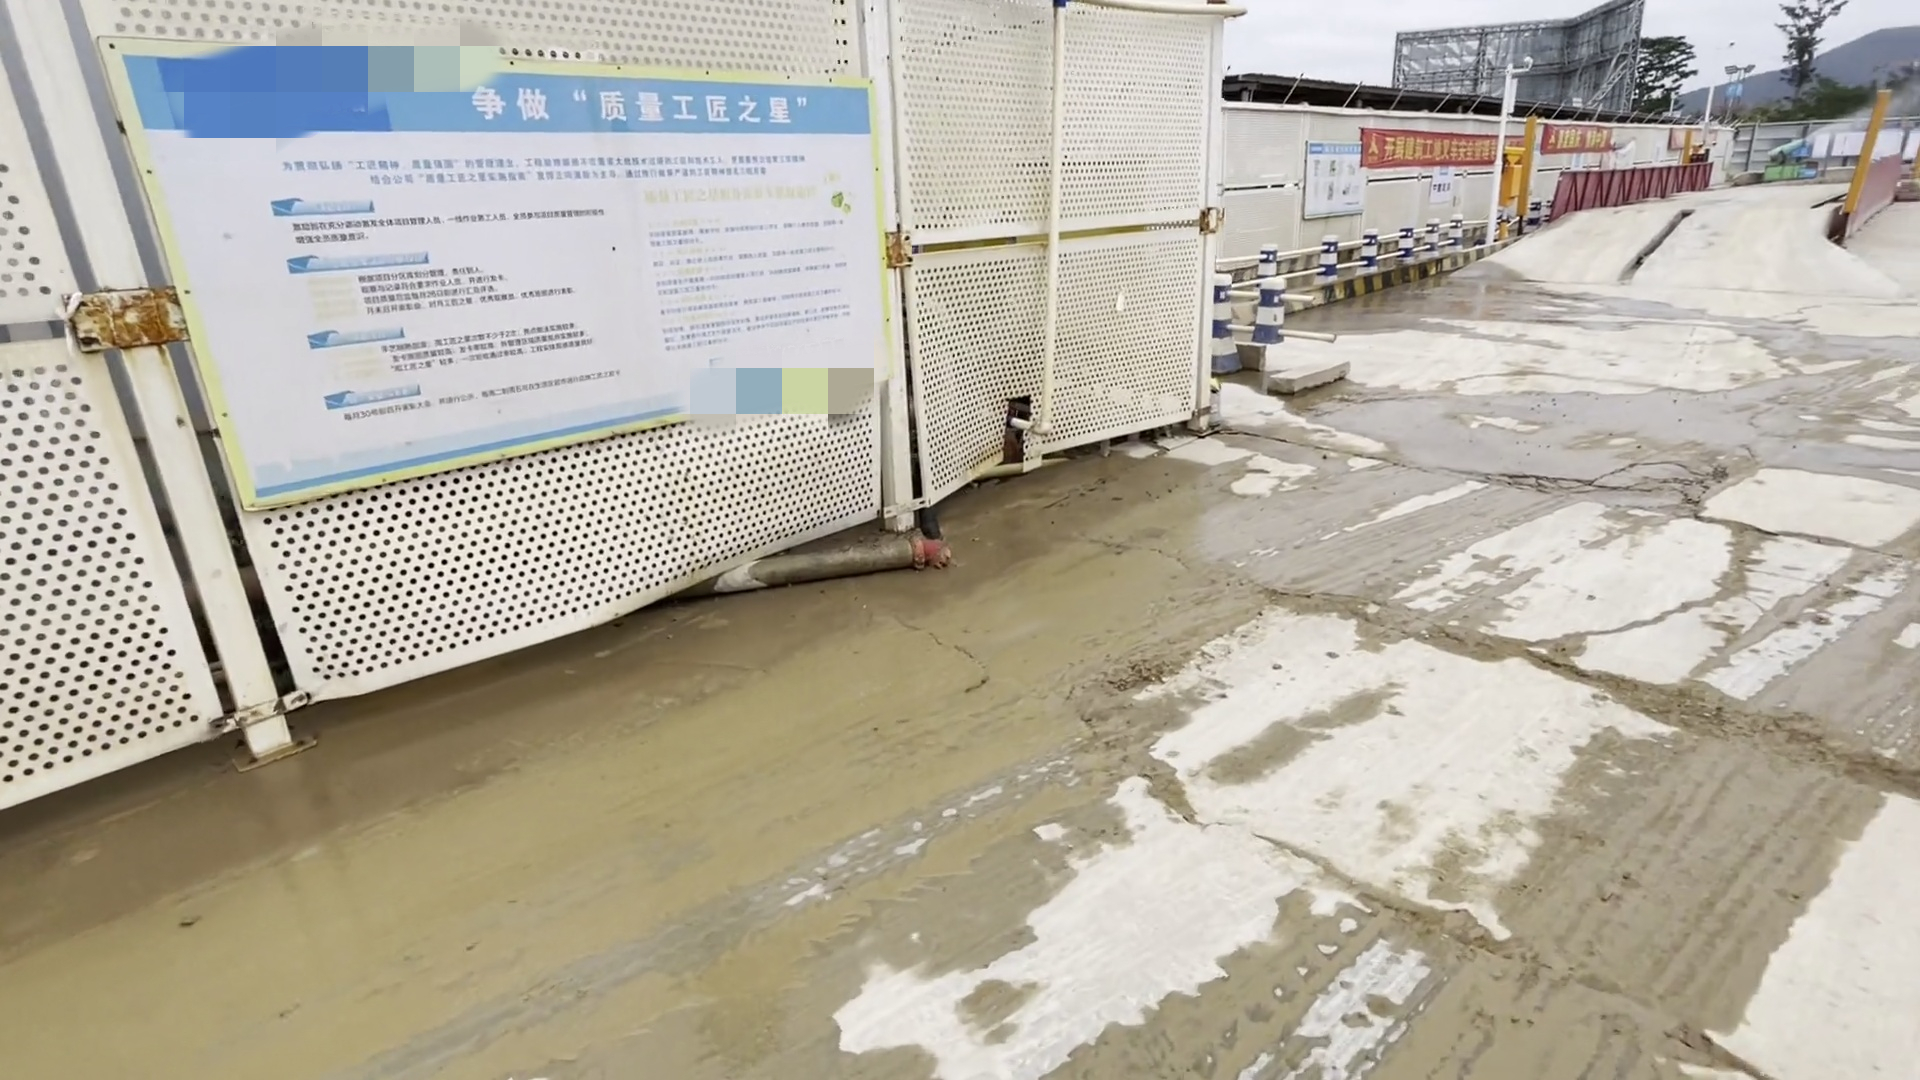slogan: (86, 38, 923, 509)
